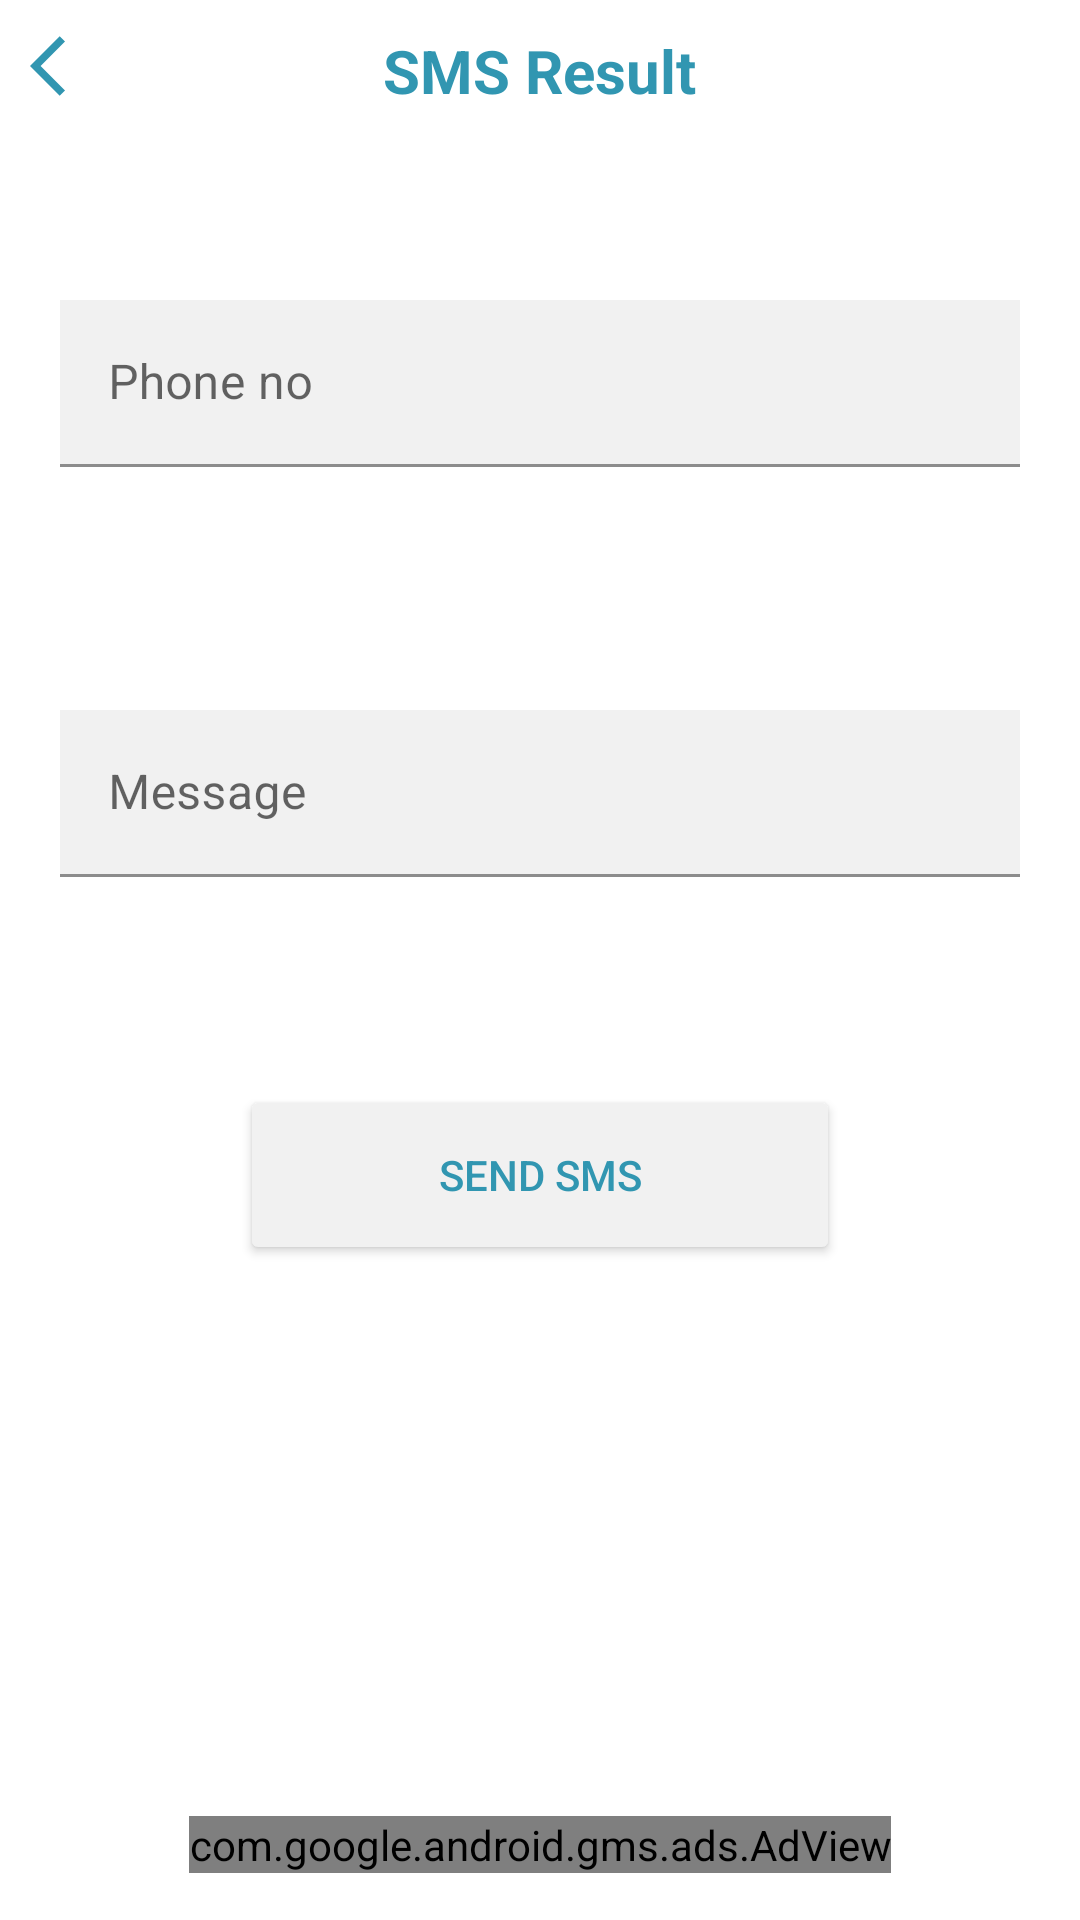

Icon click points for this 1080px×1920px phone screenshot, format point (x, y):
arrow back: point (47, 66)
